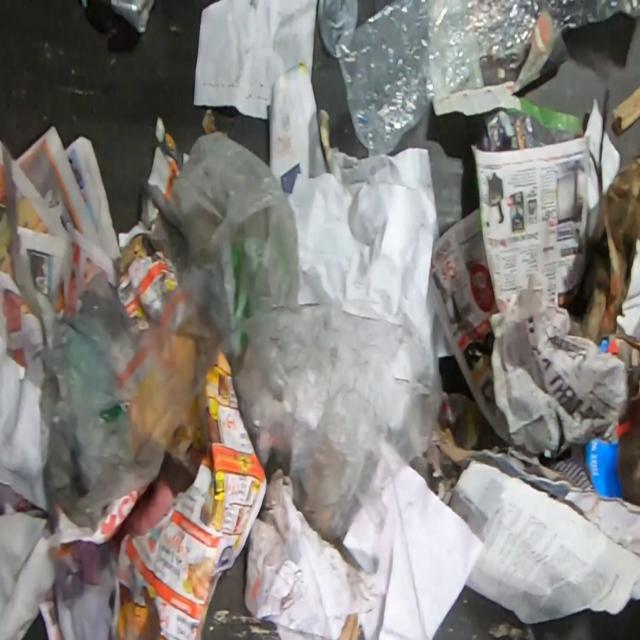cardboard: (424, 418, 598, 516), (584, 436, 624, 499)
metal: (316, 0, 359, 59), (110, 0, 157, 35)
soft_plastic: (146, 131, 446, 544), (38, 270, 219, 534), (333, 0, 603, 156)
